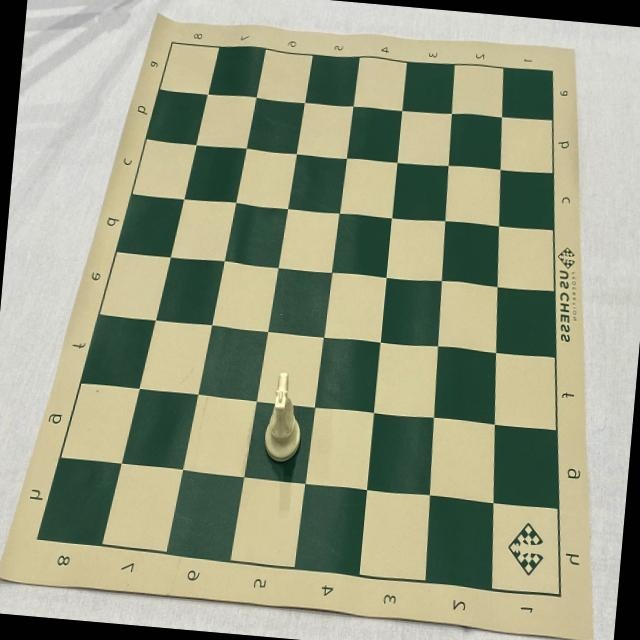white-knight: (260, 370, 306, 464)
